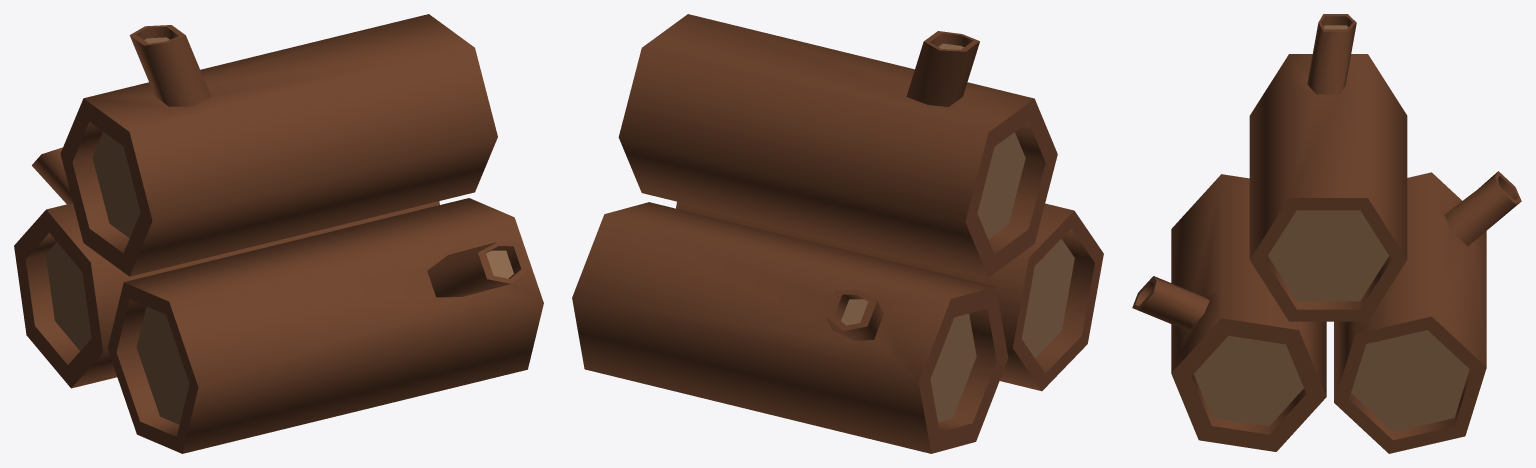
File: Hout Item.fbx
3 views of the same model, side by side, from view 1: azimuth 30°, elevation 25°; view 2: azimuth 150°, elevation 25°; view 3: azimuth 270°, elevation 25° (orthographic). The views are drawn at different scales.
Parts seen in each view (by area): view 1: Cylinder.003; view 2: Cylinder.003; view 3: Cylinder.003.
Boxes of the visible parts, box(x1,y1,x2,y2) form: Cylinder.003: box(14, 14, 543, 453); Cylinder.003: box(572, 14, 1103, 453); Cylinder.003: box(1132, 14, 1521, 453).
Size of the model in its own units: 23.72 by 23.8 by 27.09.
